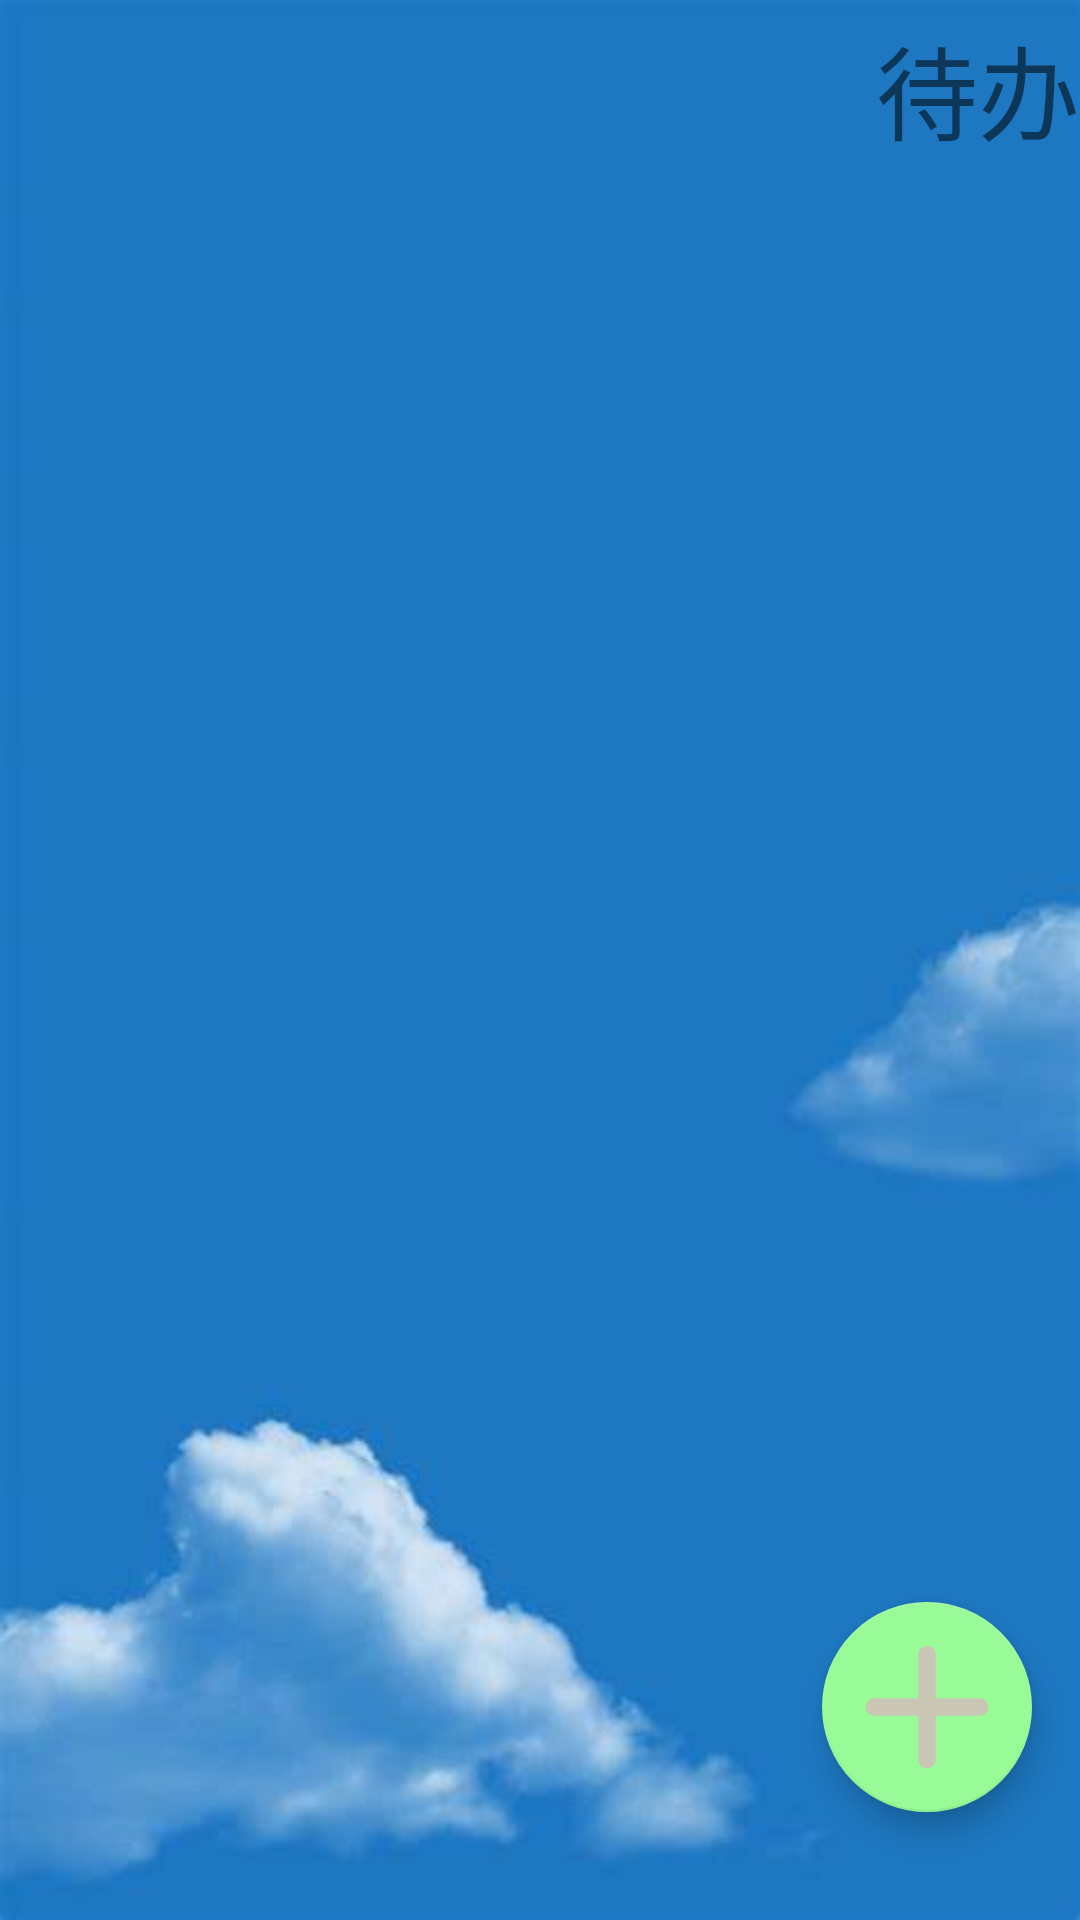

Icon click points for this 1080px×1920px phone screenshot, format point (x, y):
fab more action: point (927, 1707)
